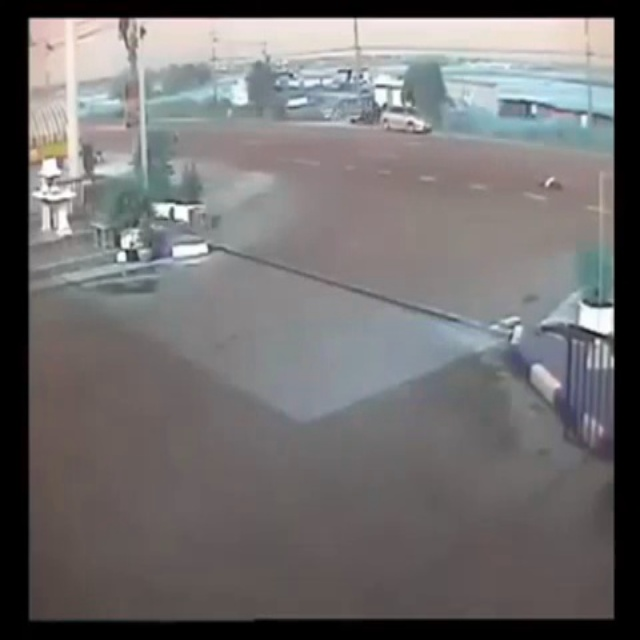acc: (531, 167, 574, 198)
